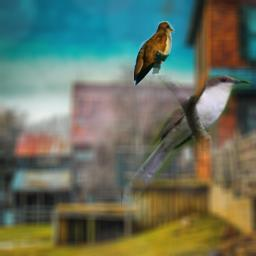Cuckoo: (121, 75, 250, 205), (134, 21, 175, 86)
